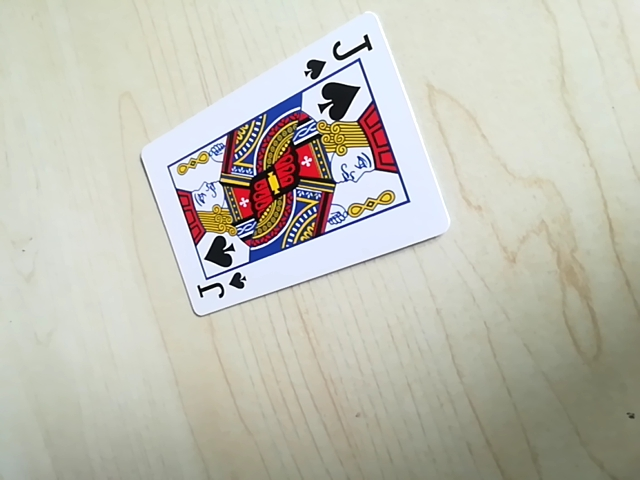ht j: (299, 29, 376, 80), (191, 260, 254, 309)
